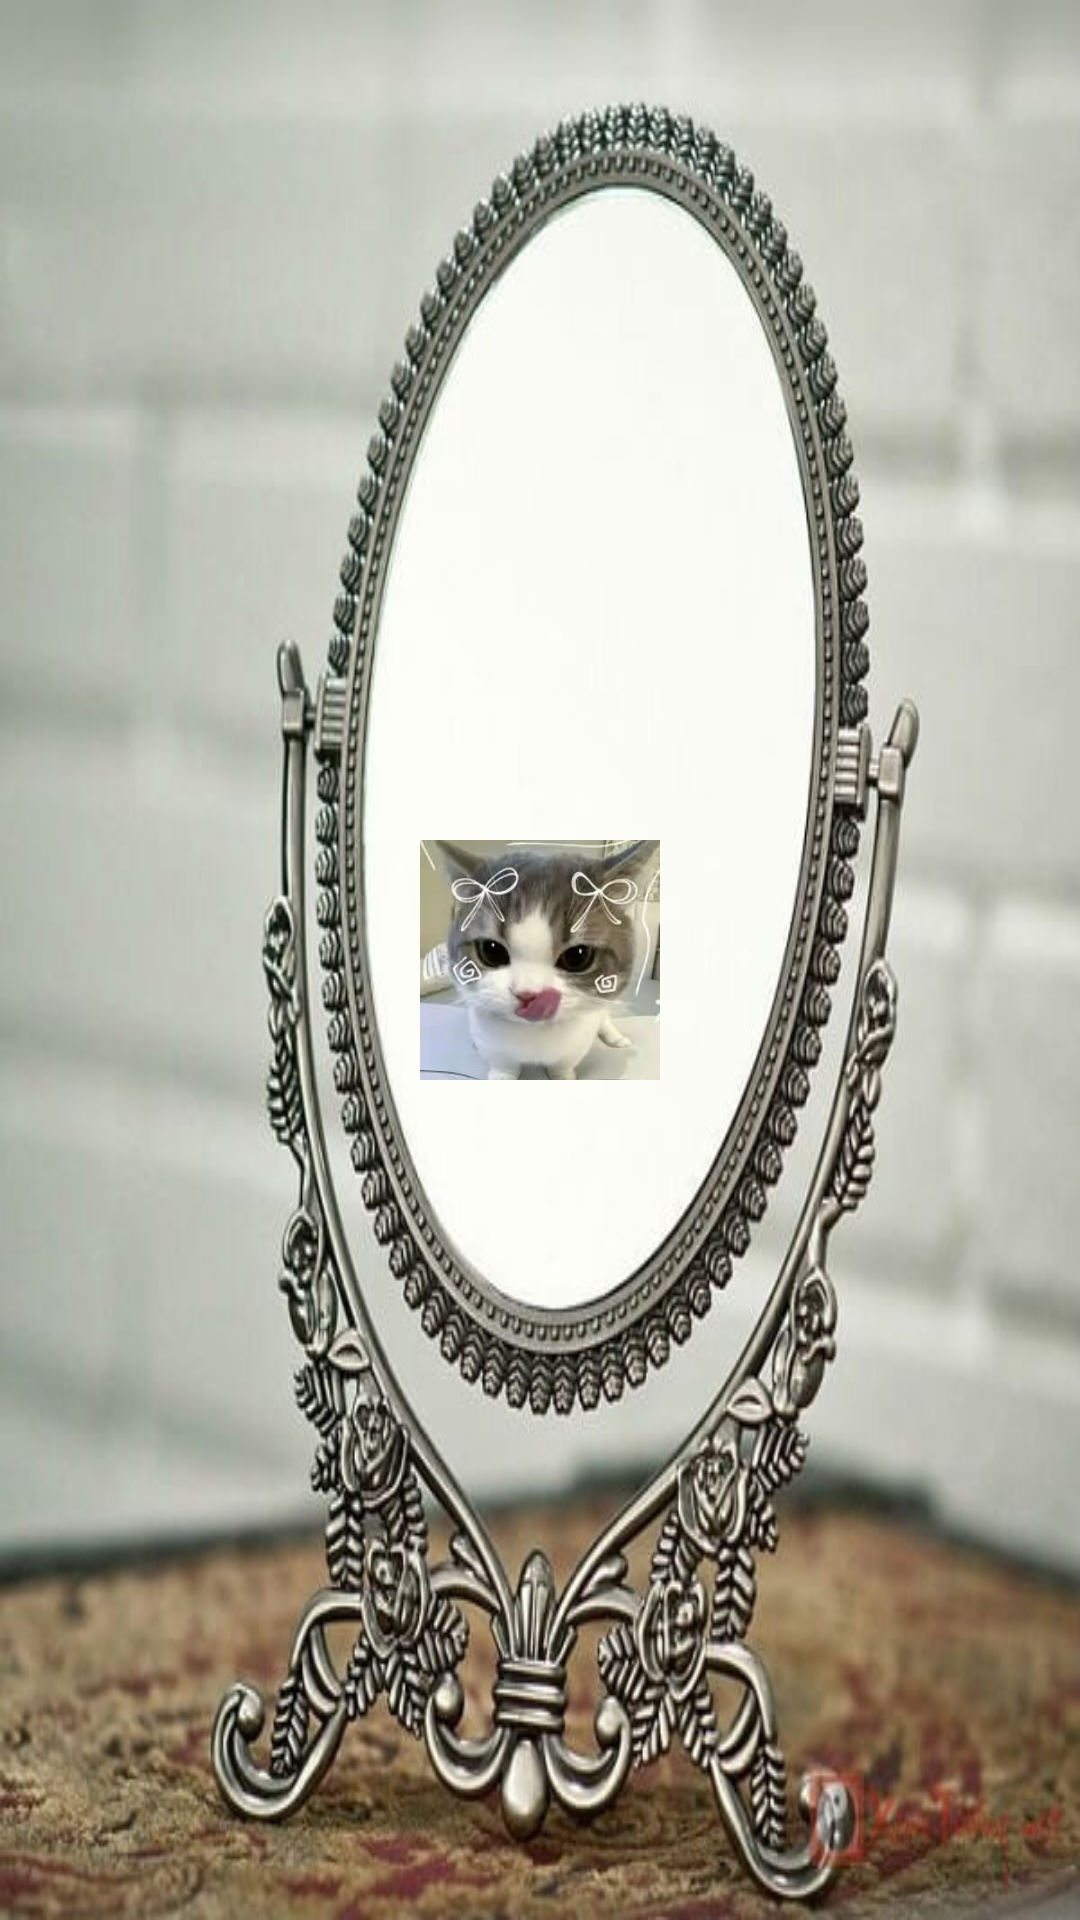

Named icons in this screenshot (1080 × 1920) and their centers, (x,y):
cat: (540,960)
